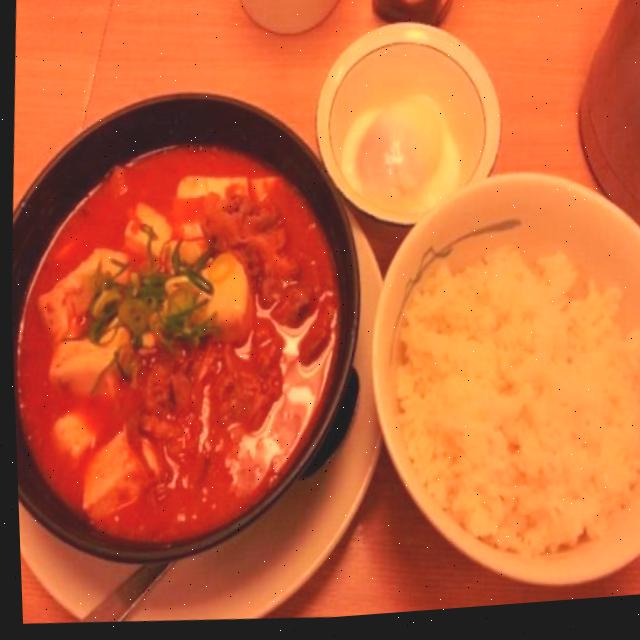米饭主食: (345, 157, 640, 615)
